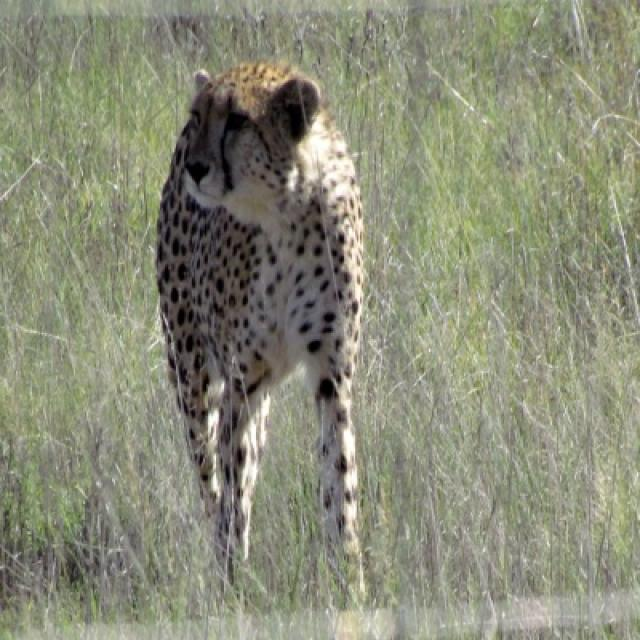Cheetah: (154, 61, 366, 579)
